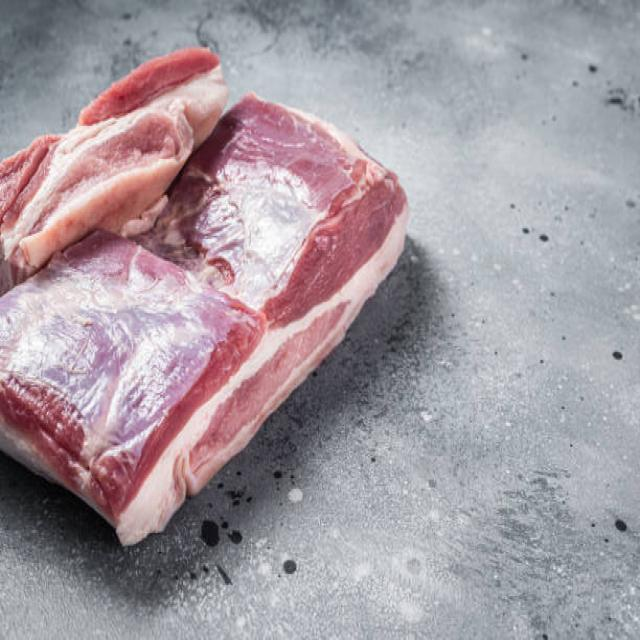pork: (0, 258, 242, 549), (185, 90, 408, 373)
